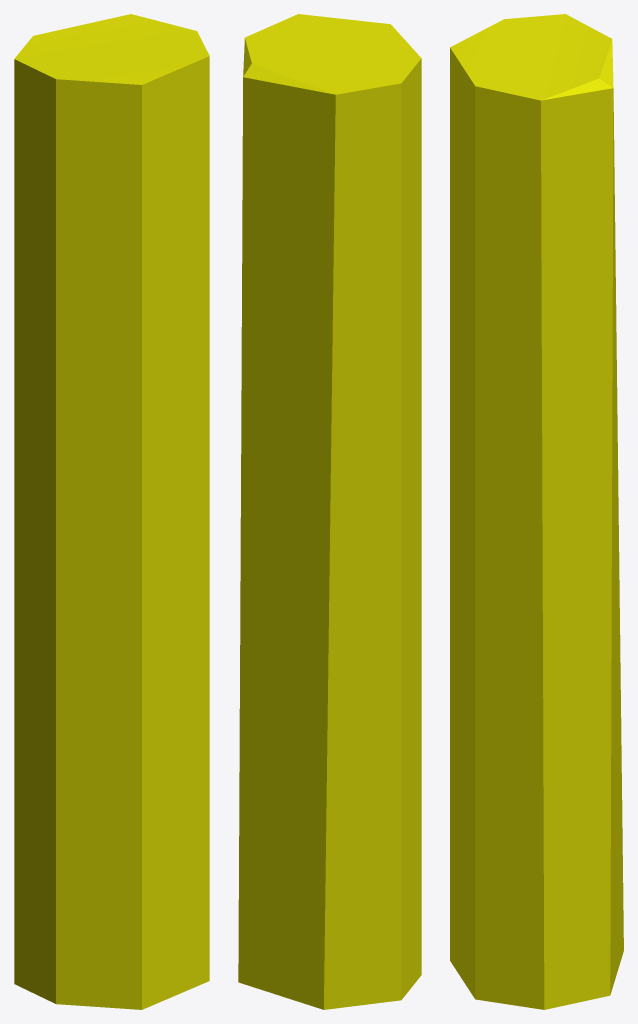
3 views of the same model, side by side, from view 1: azimuth 30°, elevation 25°; view 2: azimuth 150°, elevation 25°; view 3: azimuth 270°, elevation 25° (orthographic).
Parts seen in each view (by area): view 1: rock_004; view 2: rock_004; view 3: rock_004.
Boxes of the visible parts, bbox=[...] form: rock_004: bbox=[14, 14, 209, 1009]; rock_004: bbox=[238, 14, 421, 1009]; rock_004: bbox=[450, 14, 623, 1009].
Bounding box in the file's own units: 0.3916 × 2.02 × 0.3483.
1 material, 1 textured.
